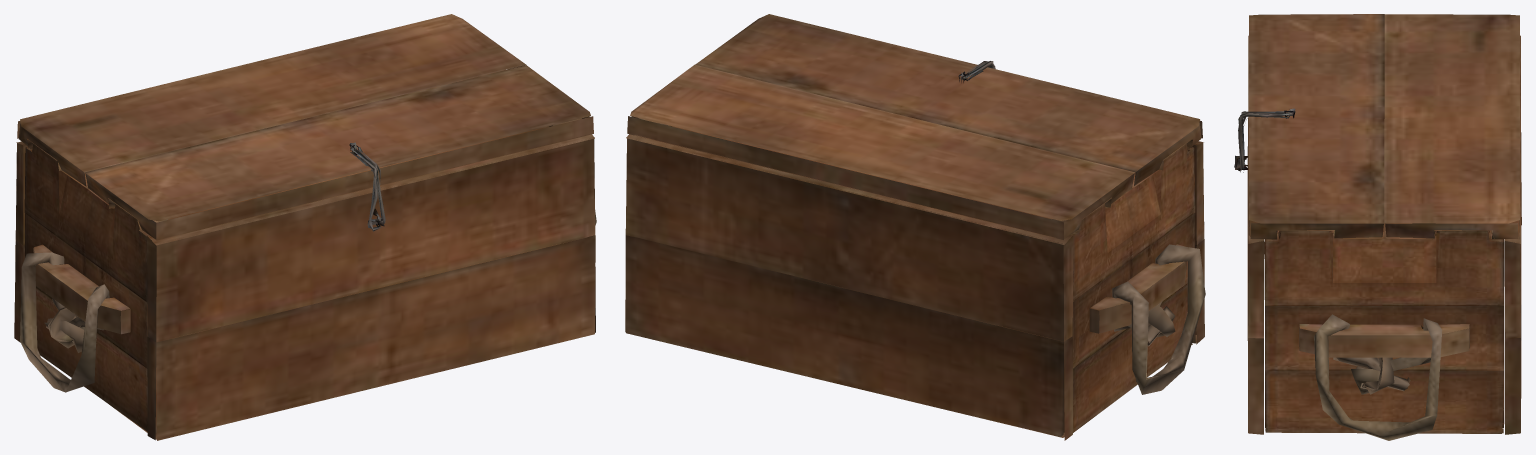
File: ph_wooden_crate_01.glb
3 views of the same model, side by side, from view 1: azimuth 30°, elevation 25°; view 2: azimuth 150°, elevation 25°; view 3: azimuth 270°, elevation 25° (orthographic). The views are drawn at different scales.
Parts seen in each view (by area): view 1: wooden_crate_01_lid; view 2: wooden_crate_01_lid; view 3: wooden_crate_01_lid.
Boxes of the visible parts, x1,y1,x2,y2 form: wooden_crate_01_lid: [14, 14, 596, 440]; wooden_crate_01_lid: [625, 14, 1205, 440]; wooden_crate_01_lid: [1234, 14, 1521, 440].
Size of the model in its own units: 0.8222 by 0.3493 by 0.4075.
Materials: 1 (1 with a texture image).
